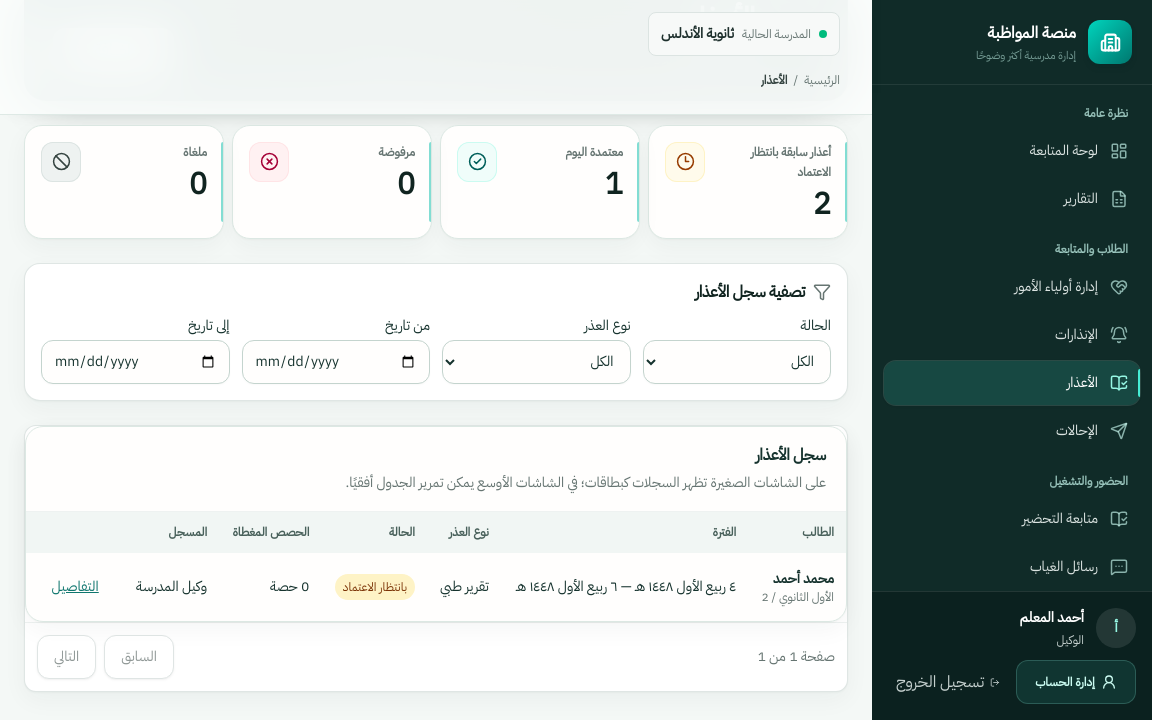
Test: excuses page (Phase 10) › surfaces a stale preview error from the API
(page scrolled)
Click the button with test id "open-excuse-7" at (75, 587), box left=39, top=565, right=111, bottom=609
(page scrolled)
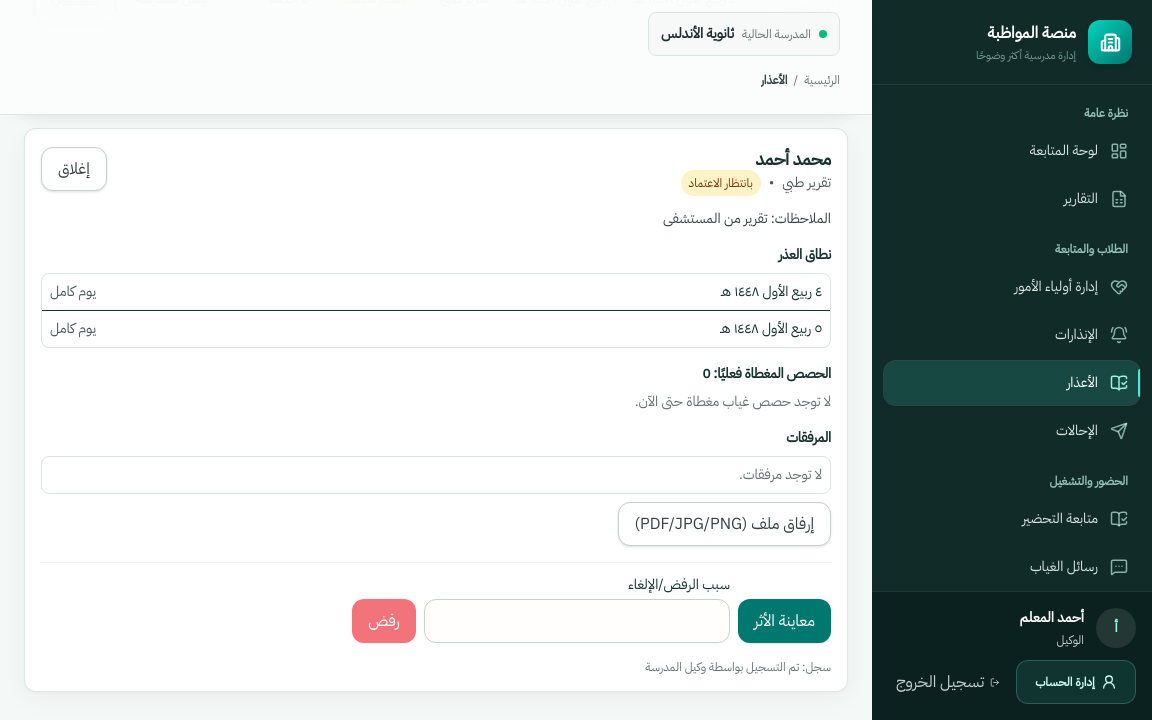
Click the button with test id "preview-excuse" at (784, 621), box left=738, top=599, right=831, bottom=643
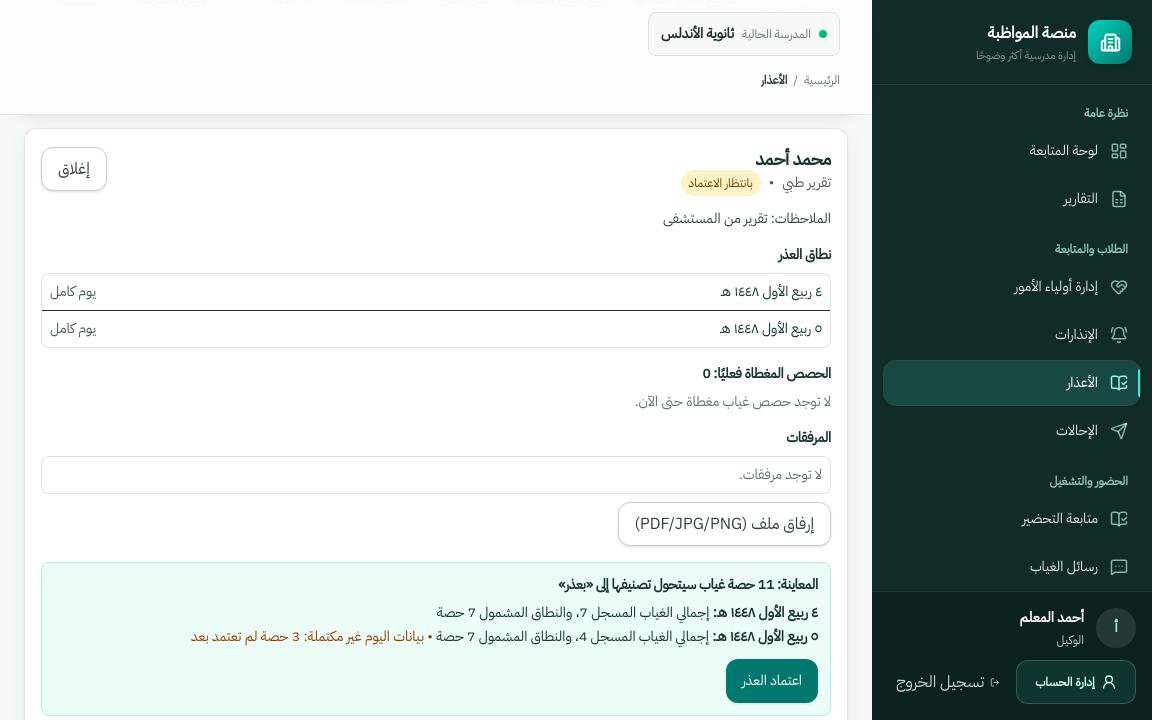
Click the button with test id "confirm-approve" at (772, 681), box left=726, top=659, right=818, bottom=703
(page scrolled)
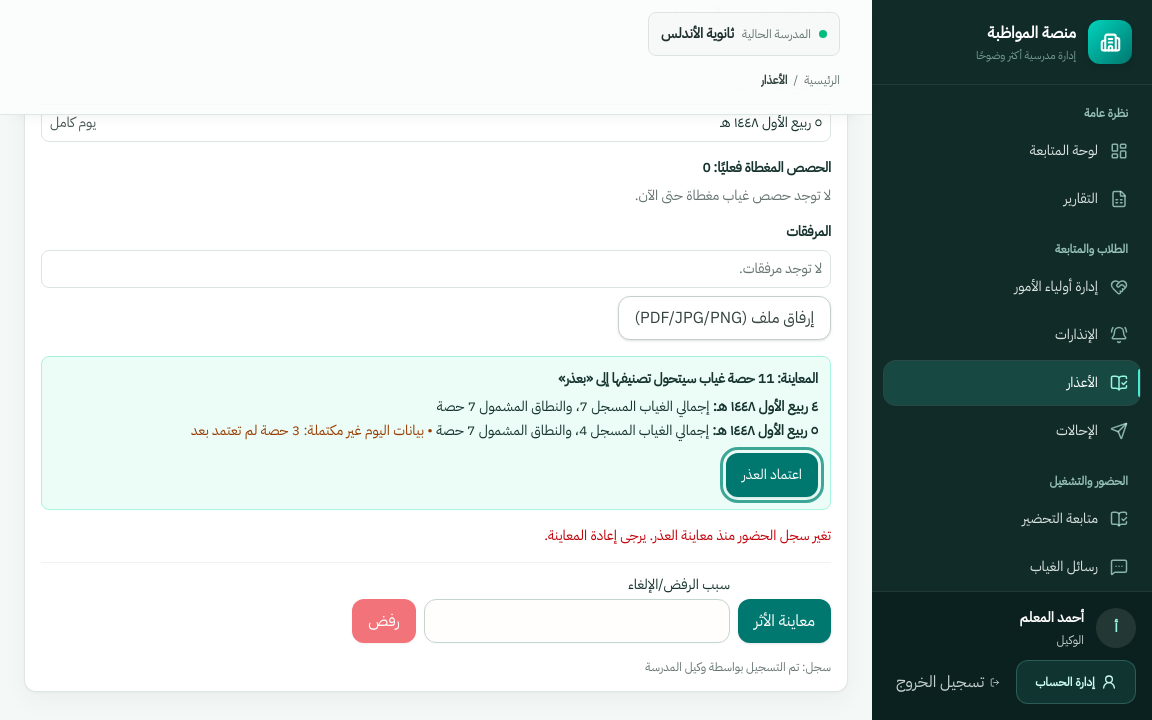
Check: the message with test id "excuse-action-error" shows "تغير سجل الحضور منذ معاينة العذر", box left=544, top=525, right=831, bottom=546
